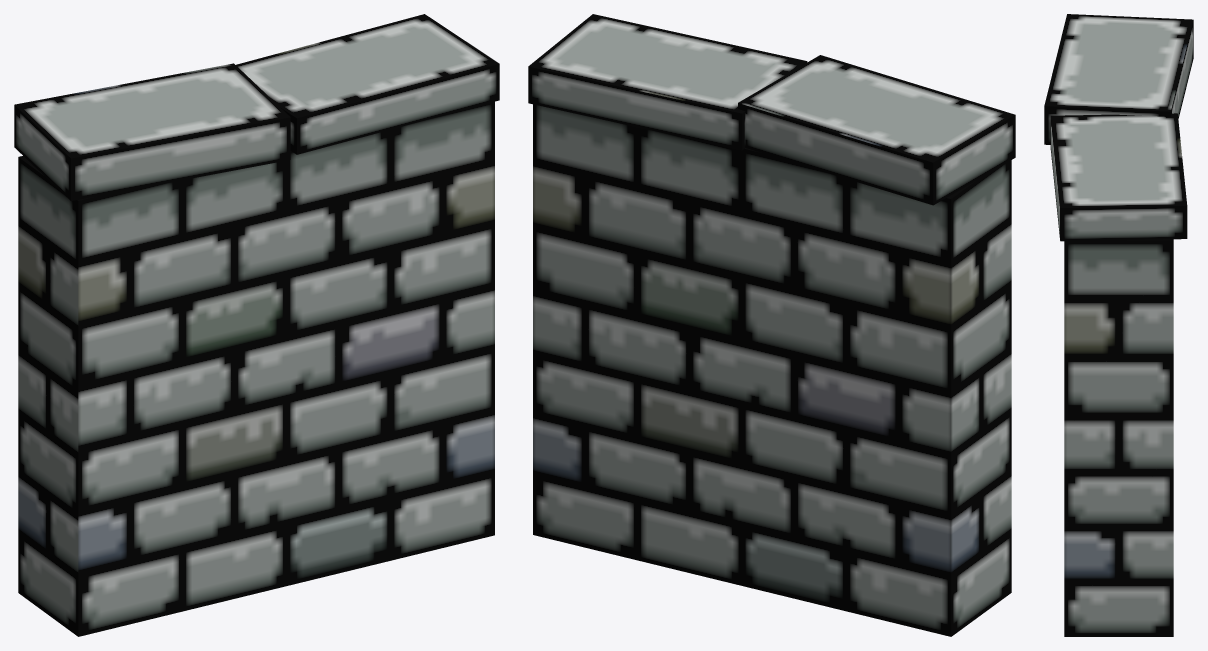
File: deco_cathedral_wallTall.FBX
3 views of the same model, side by side, from view 1: azimuth 30°, elevation 25°; view 2: azimuth 150°, elevation 25°; view 3: azimuth 270°, elevation 25° (orthographic). The views are drawn at different scales.
Parts seen in each view (by area): view 1: deco_cathedral_wallTall; view 2: deco_cathedral_wallTall; view 3: deco_cathedral_wallTall.
Part boxes in pixels (bbox=[...]): deco_cathedral_wallTall: bbox=[14, 14, 499, 636]; deco_cathedral_wallTall: bbox=[528, 14, 1015, 636]; deco_cathedral_wallTall: bbox=[1044, 14, 1193, 636].
Size of the model in its own units: 2.04 by 2.2 by 0.6822.
1 material, 1 textured.
